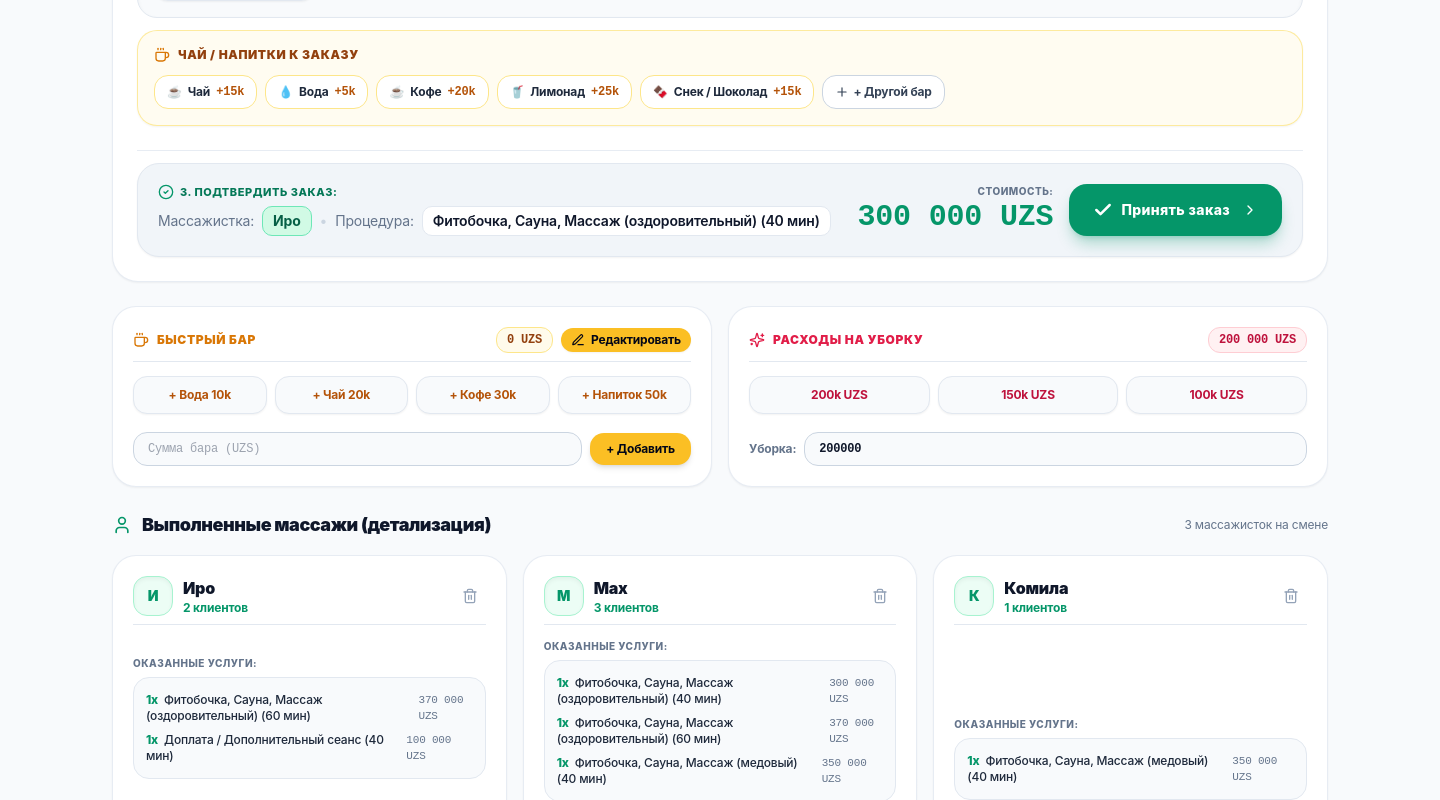
it: Feature F16: iOS Design System, Delete Massajistka, and Bar Editor › 3. Bar Editing & Modification Feature › allows editing an existing bar item in the list
The image size is (1440, 800).
(page scrolled)
First add an item via quick bar
Click the button with test id "pos-quick-bar-btn-20000" at x=341, y=395, box 274,376 -> 408,414
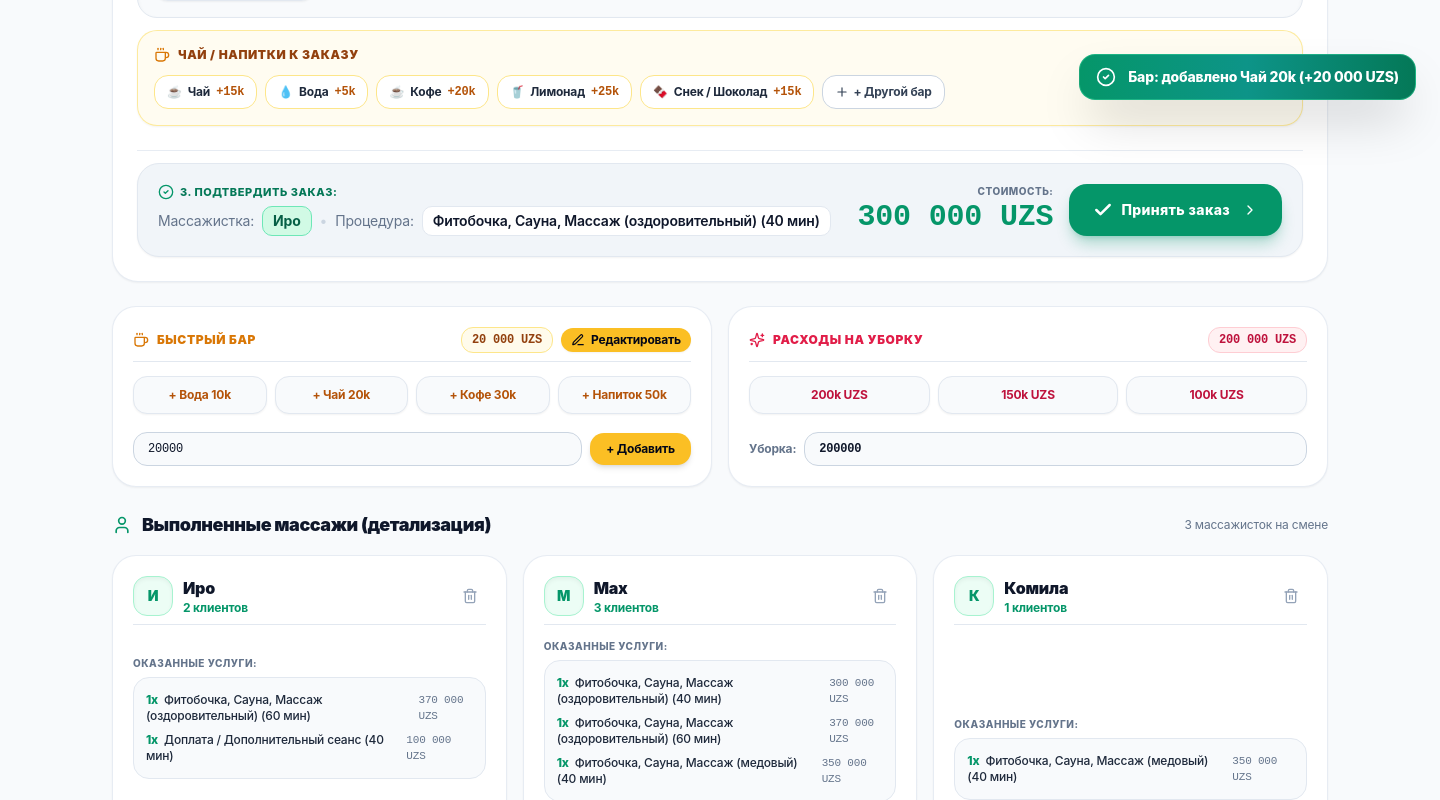
Open Bar Editor
Click the button with test id "open-bar-editor-btn" at x=626, y=340, box 561,328 -> 691,352
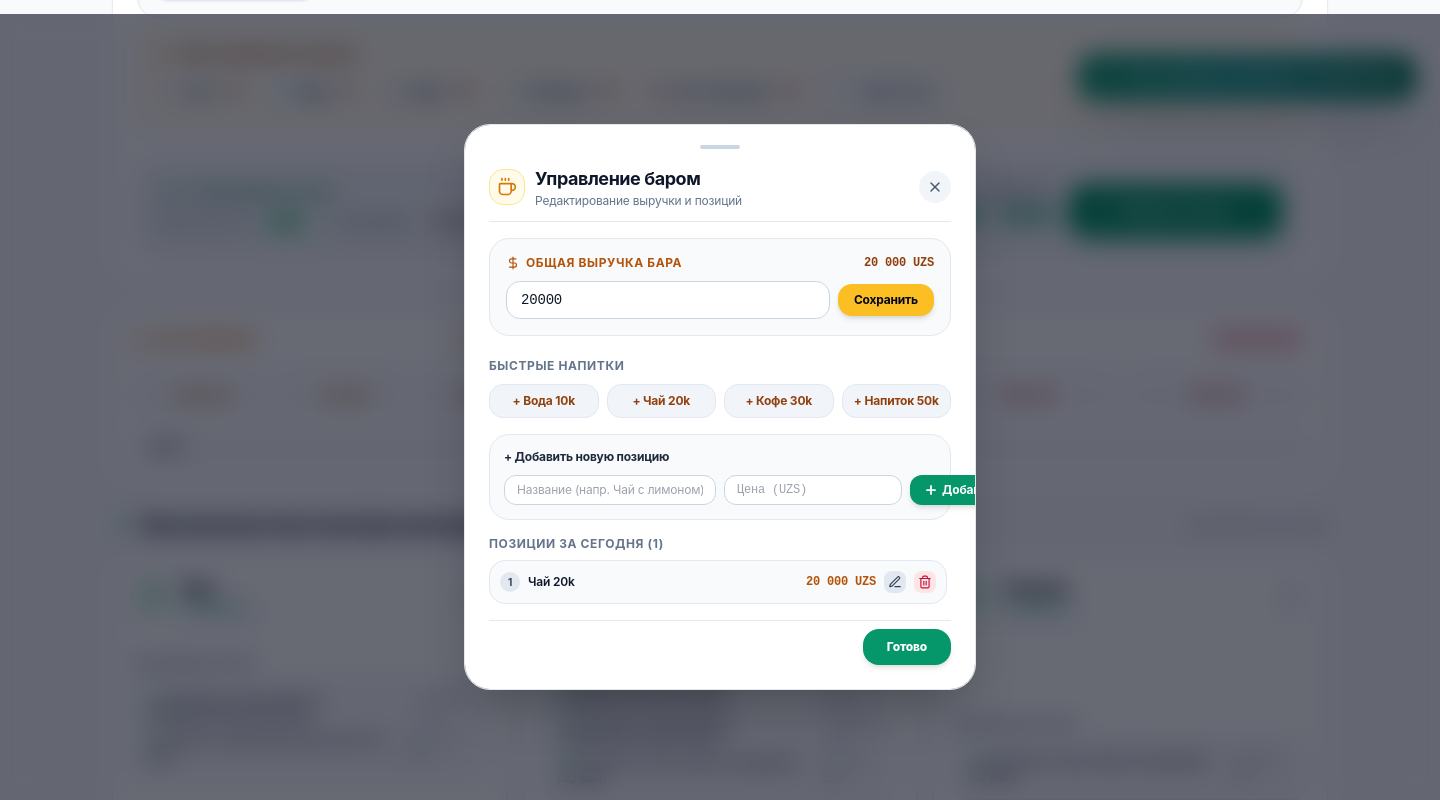
Now the element with test id "bar-item-row-0" is shown, box 489,560 -> 947,604
Click edit
Click the button with test id "edit-bar-item-0" at x=895, y=582, box 884,571 -> 906,593
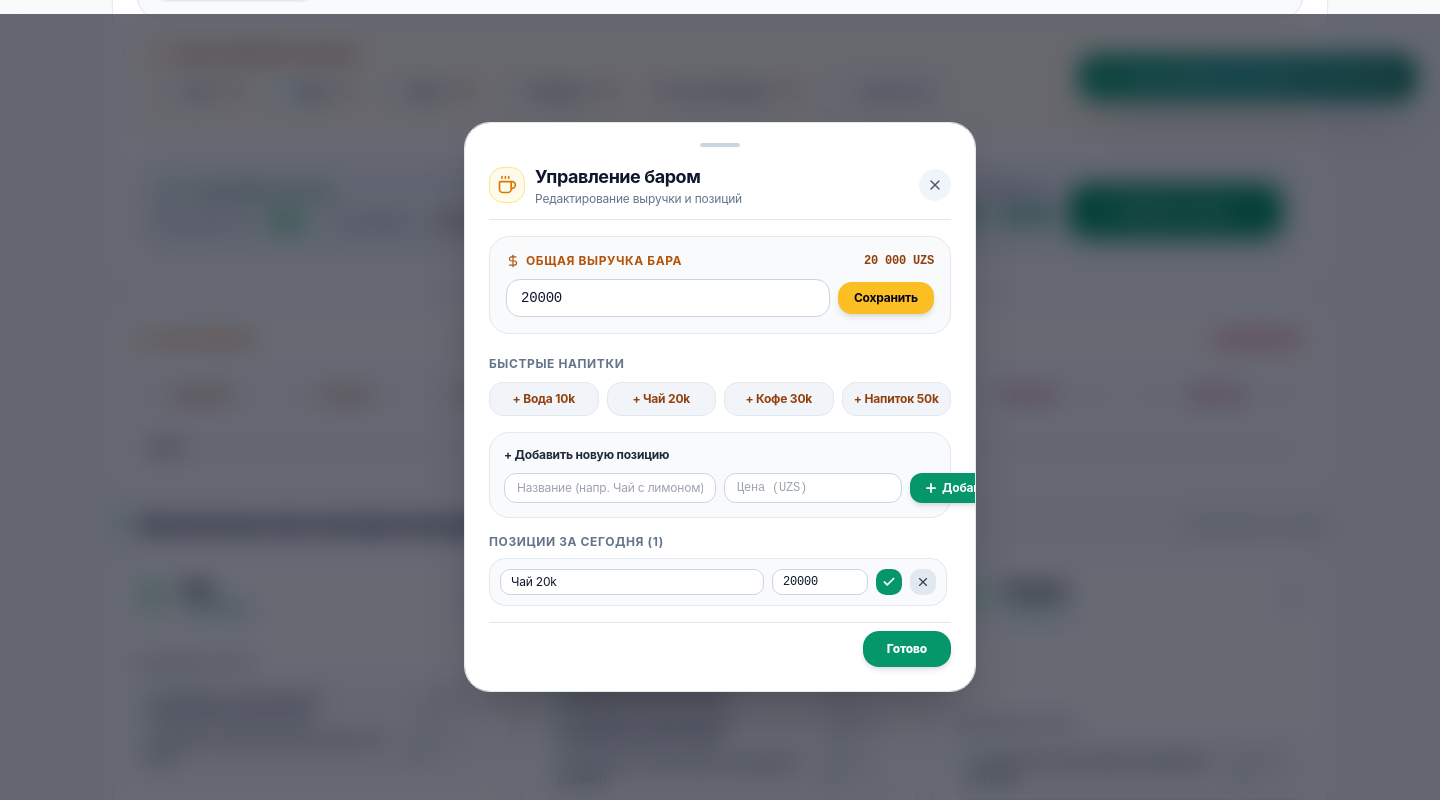
Change name and price
Replace the text in the field with test id "edit-bar-item-name-0" with "Чай с мятой" at x=632, y=582, box 500,569 -> 764,595
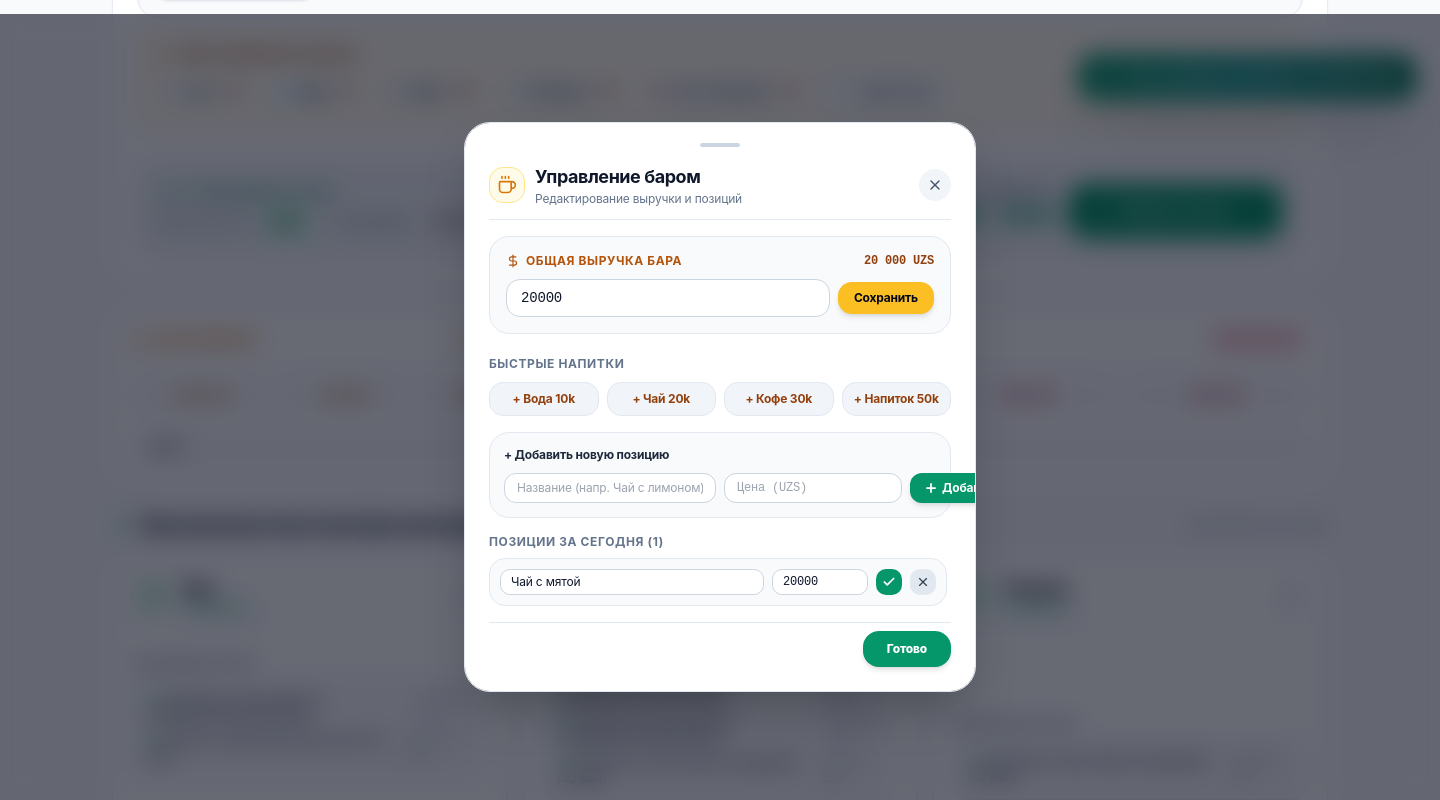
Replace the text in the number field with test id "edit-bar-item-price-0" with "25000" at x=820, y=582, box 772,569 -> 868,595
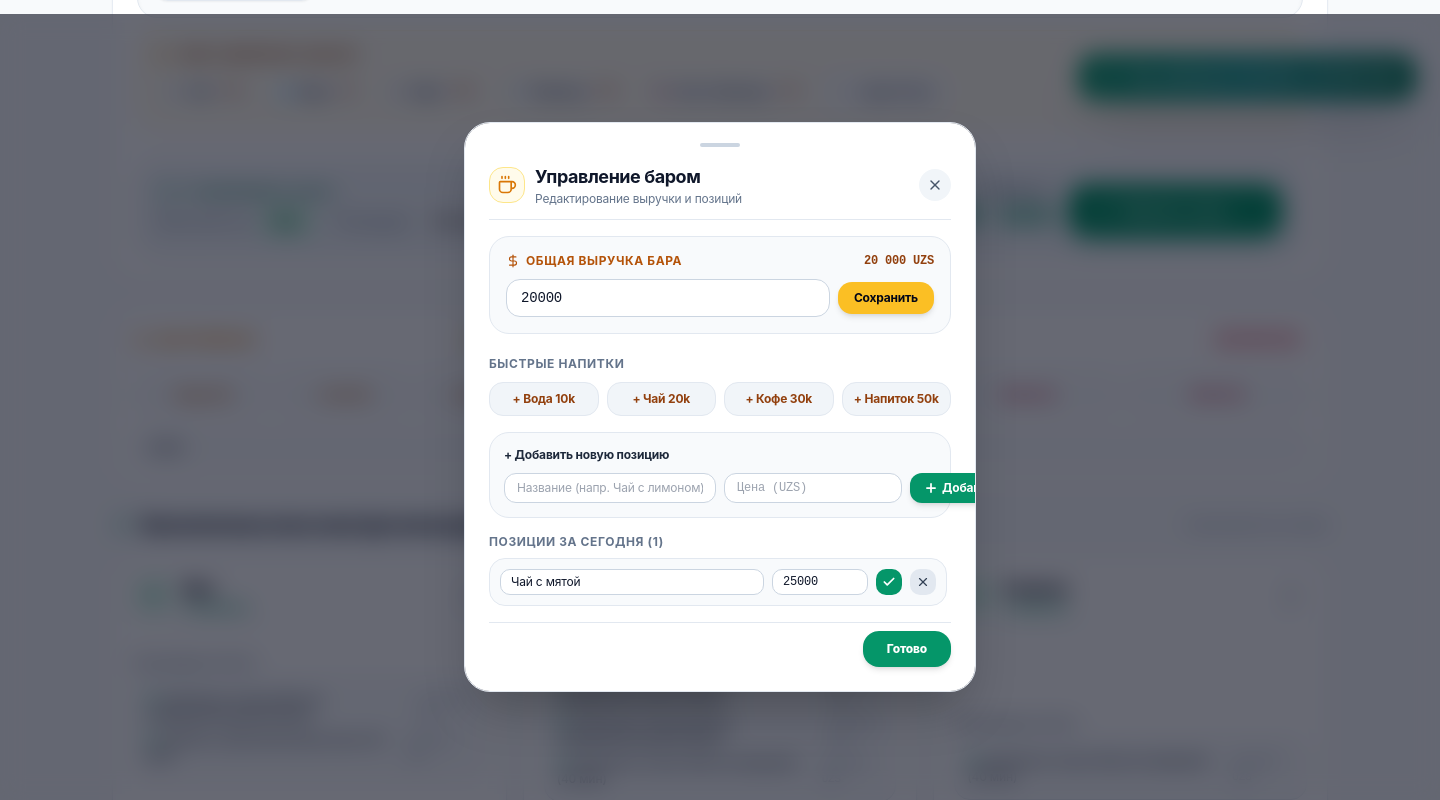
Save edit
Click the button with test id "save-bar-item-0" at x=889, y=582, box 876,569 -> 902,595
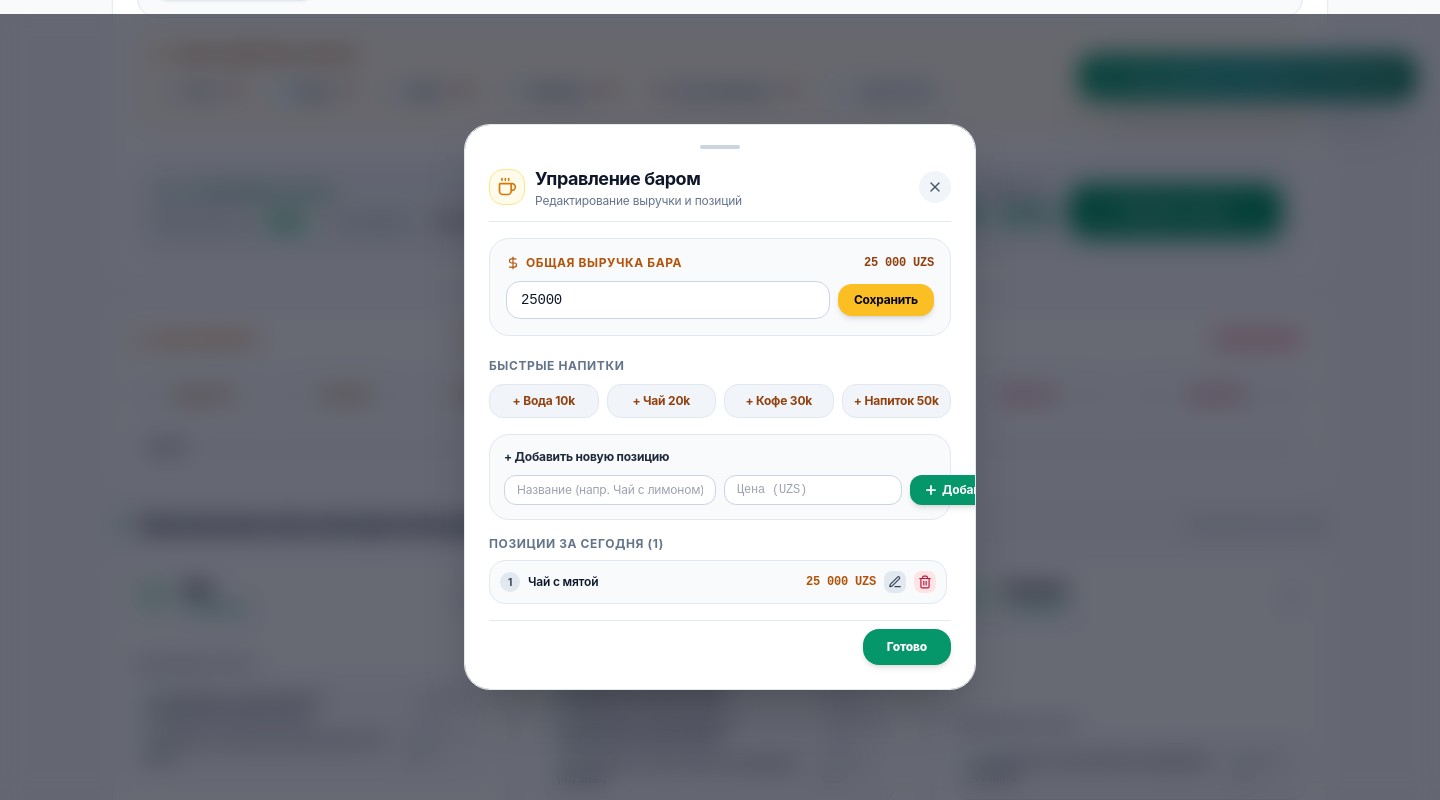
Now the text "Чай с мятой" is shown, box 528,574 -> 598,590
Now the text with test id "bar-item-price-0" shows "25 000", box 806,575 -> 876,589
